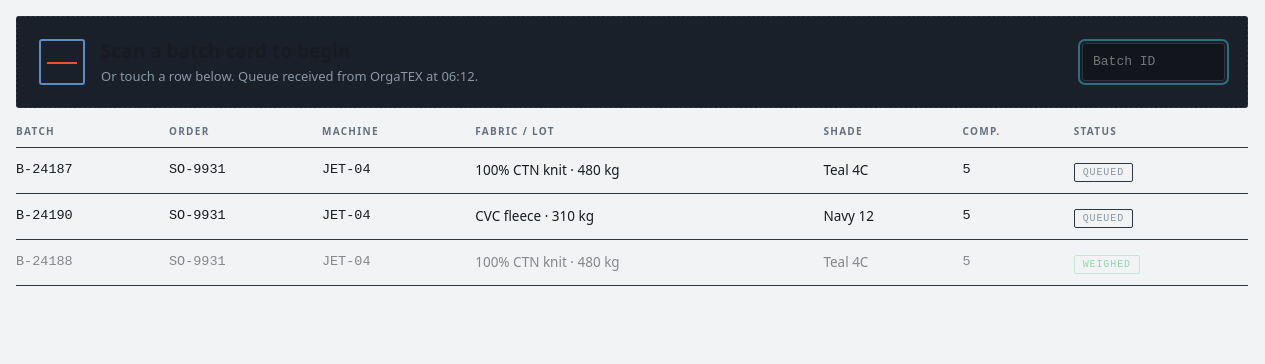
Test: BatchQueueScreen › explains why a batch cannot be weighed
Click the text "B-24188" at (92, 262), box [16,239,169,285]
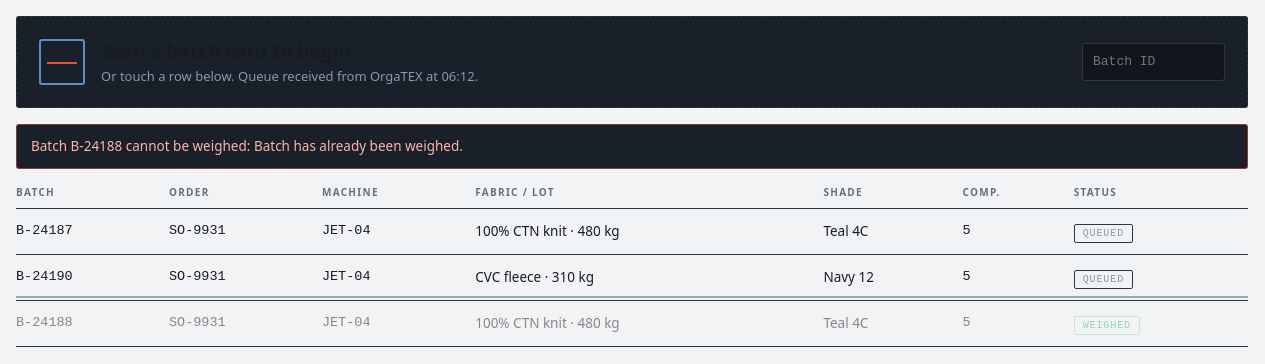
Now the text "Batch B-24188 cannot be weighed: Batch has already been weighed." is shown, box [16,124,1248,168]
